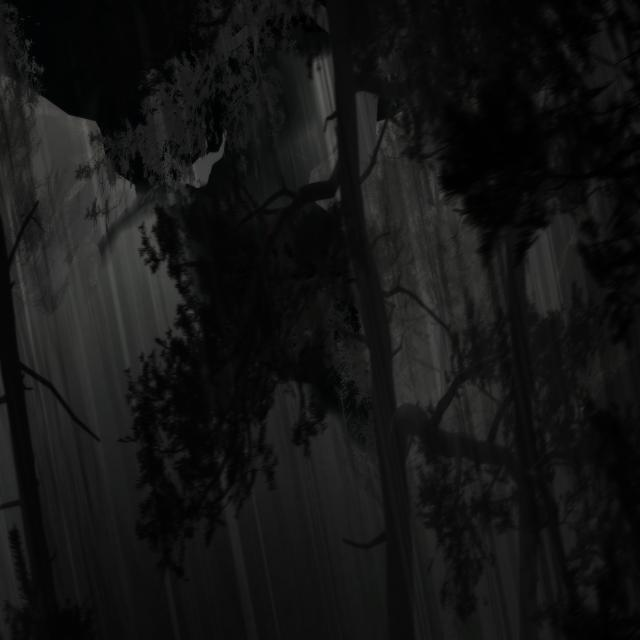Human: (163, 112, 232, 194)
